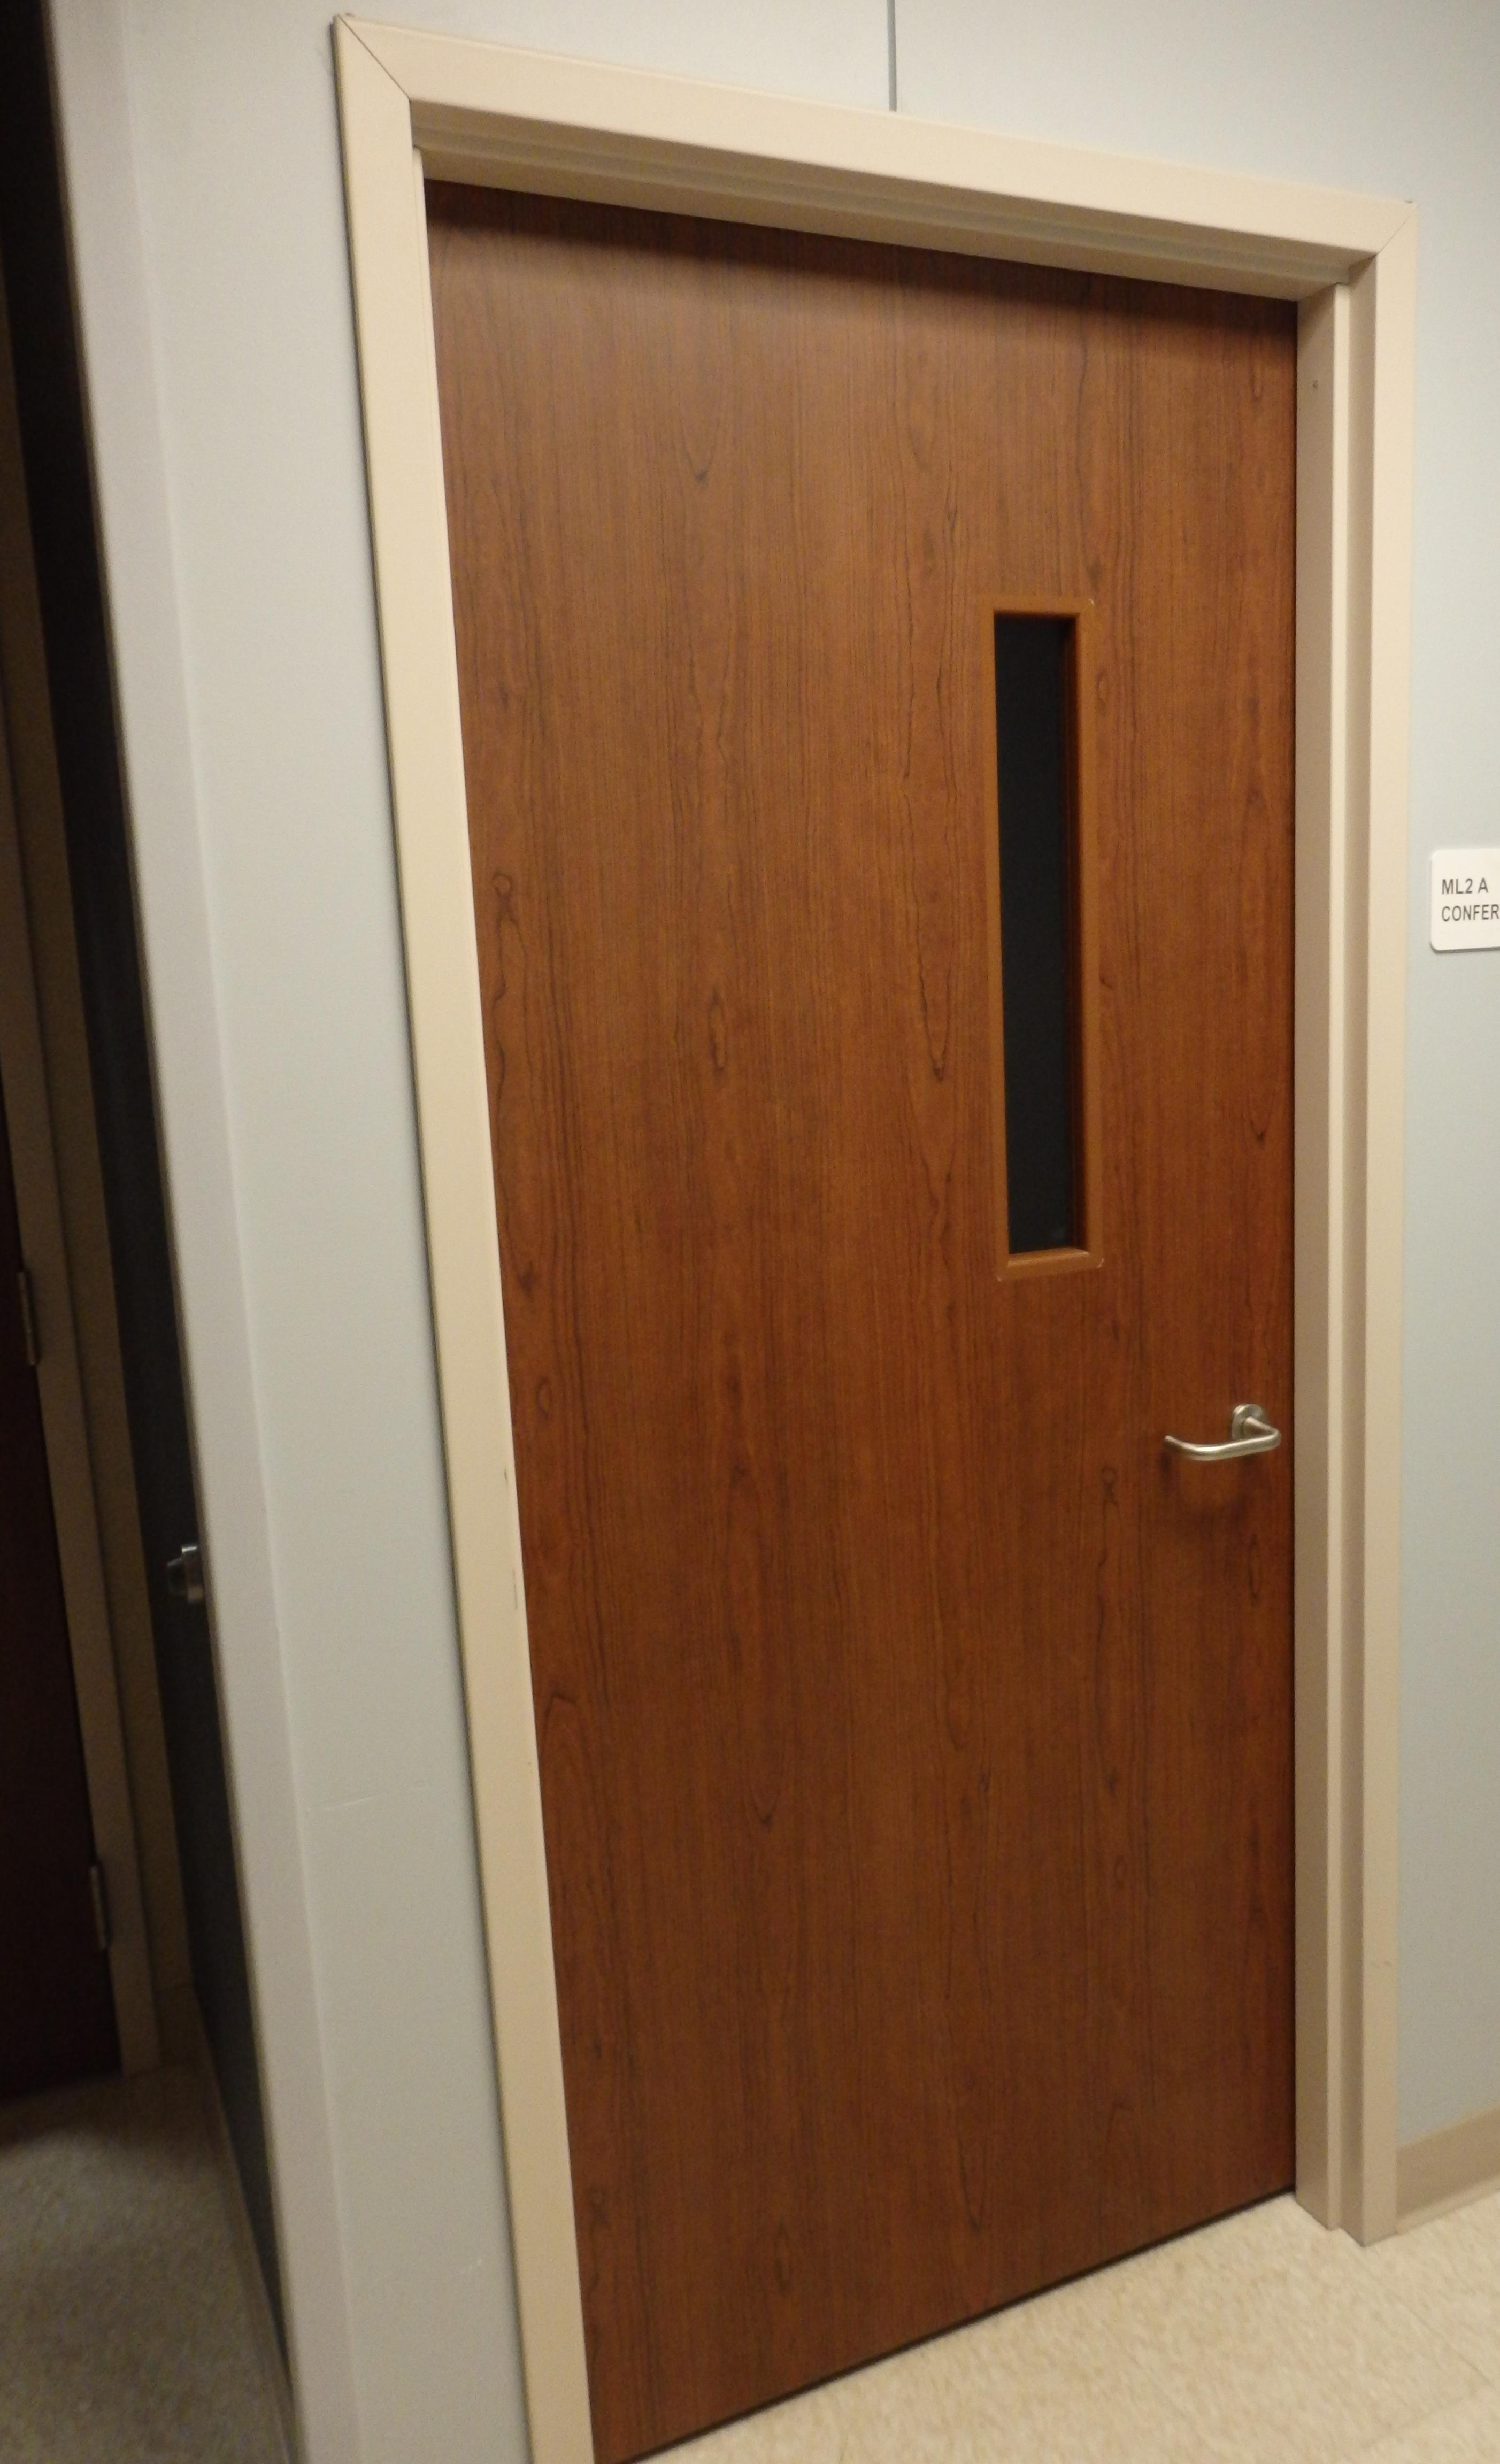door: (340, 18, 1419, 2457)
